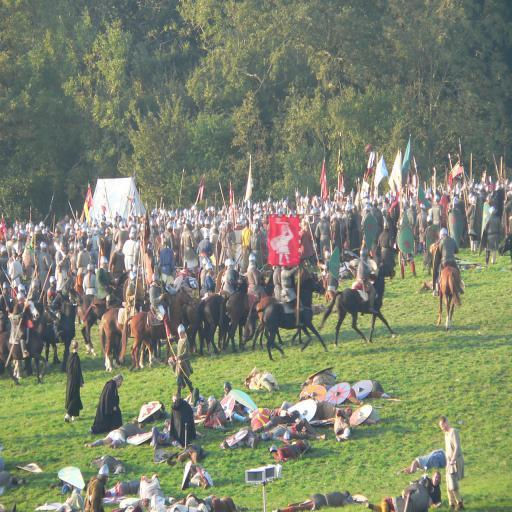horse: (0, 270, 329, 388), (322, 260, 400, 349), (428, 241, 462, 329)
